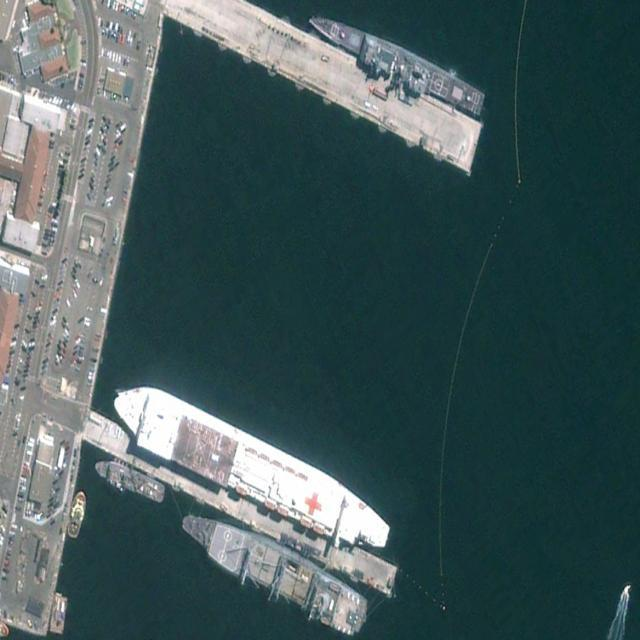Auxiliary Ships: (105, 368, 396, 569)
Cruiser: (303, 5, 485, 119)
Hovercraft: (67, 486, 90, 539)
Other Ship: (176, 496, 373, 640), (91, 450, 168, 510)
